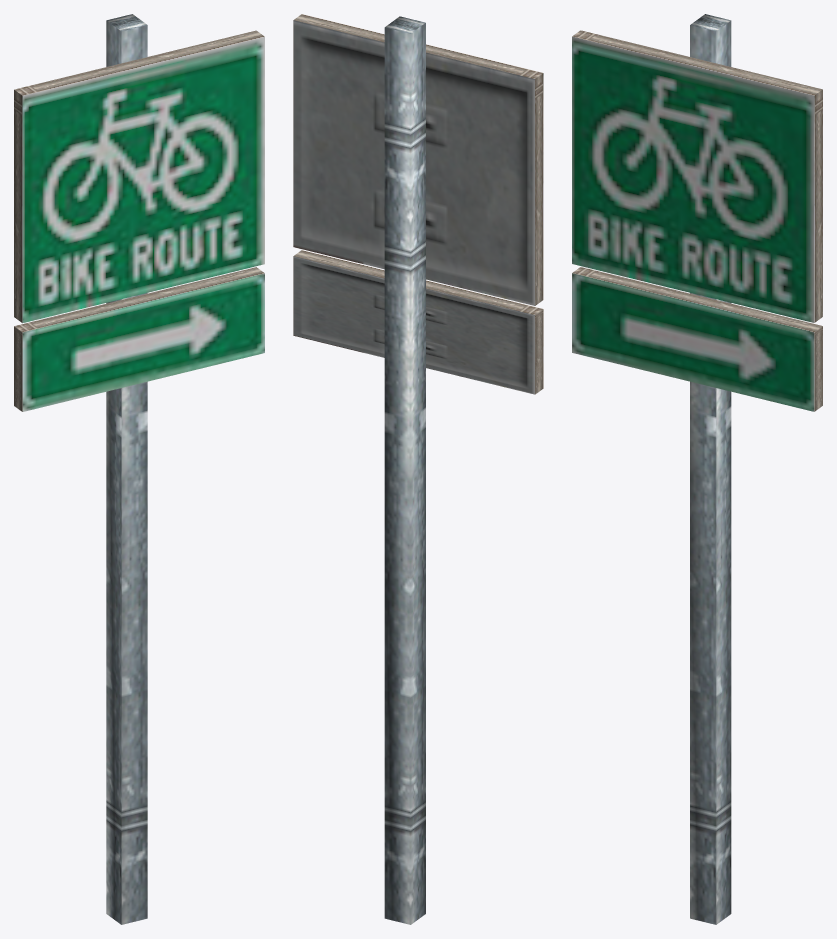
File: Model_StreetSign_18.fbx
The picture shows the model from 3 angles, left to right: view 1: azimuth 30°, elevation 25°; view 2: azimuth 150°, elevation 25°; view 3: azimuth 330°, elevation 25°; orthographic projection.
Visible parts, largest first — view 1: StreetSign_20; view 2: StreetSign_20; view 3: StreetSign_20.
Boxes of the visible parts, left/top/right/bottom form: StreetSign_20: left=14, top=14, right=264, bottom=924; StreetSign_20: left=293, top=14, right=543, bottom=924; StreetSign_20: left=572, top=14, right=822, bottom=924.
Bounding box in the file's own units: 59.59 × 210 × 10.5.
